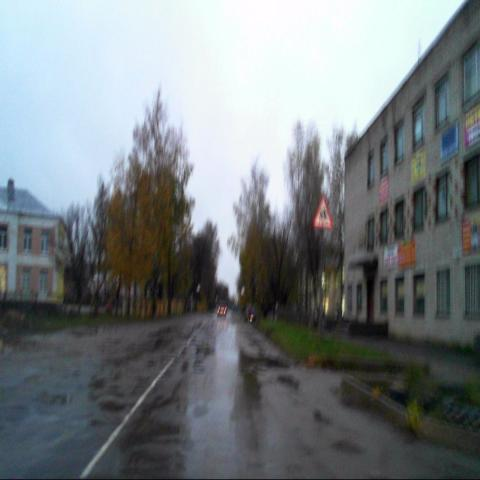1_23: (313, 194, 333, 228)
